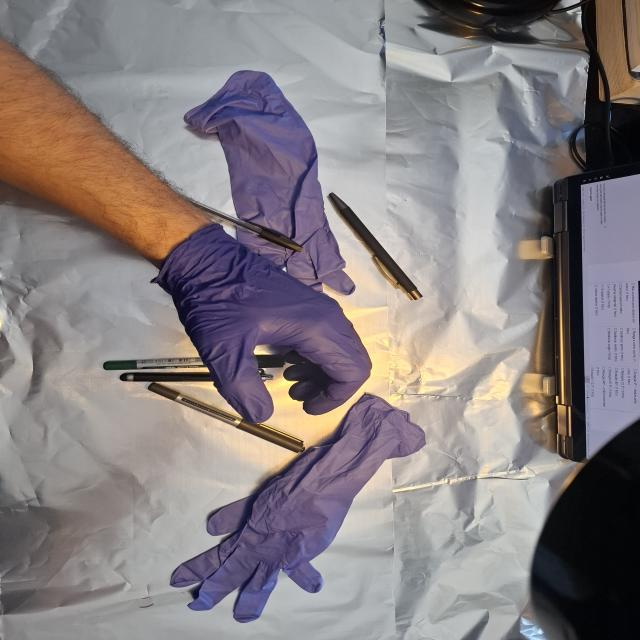glove_on: (158, 225, 378, 428)
